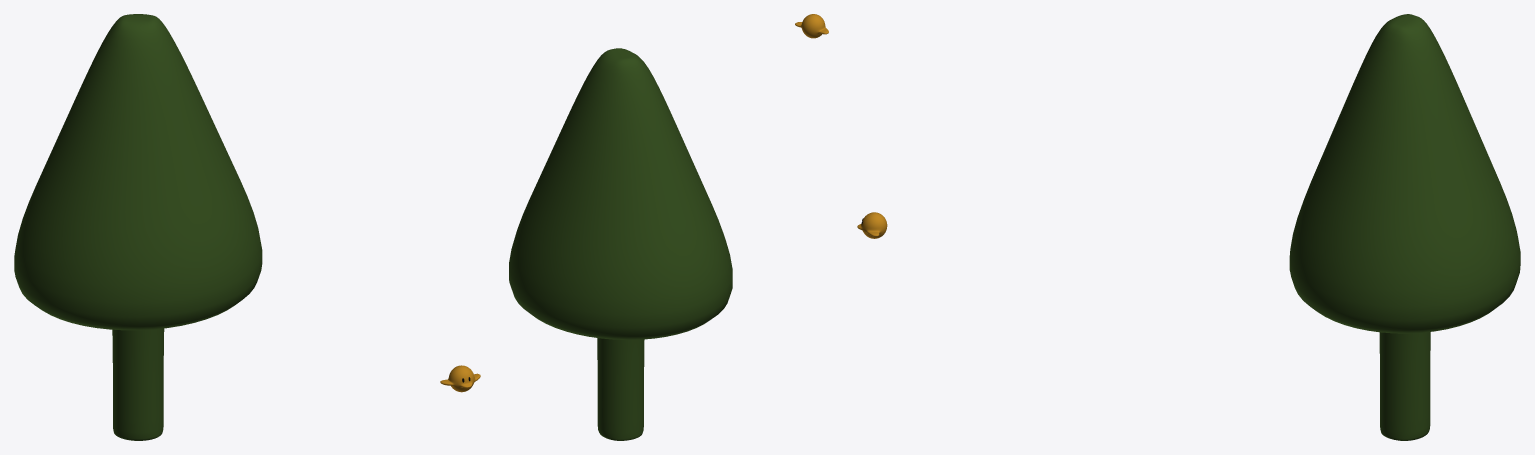
The model's file is pollito.gltf.
3 renders of one model, left to right at view 1: azimuth 30°, elevation 25°; view 2: azimuth 150°, elevation 25°; view 3: azimuth 270°, elevation 25°, orthographic. The views are drawn at different scales.
Visible parts, largest first — view 1: polySurface35 polySurface31, polySurface1 polySurface20; view 2: polySurface35 polySurface31, polySurface1 polySurface20; view 3: polySurface35 polySurface31.
Boxes of the visible parts, x1=… form: polySurface35 polySurface31: x1=14, y1=14, x2=262, y2=440; polySurface1 polySurface20: x1=440, y1=365, x2=480, y2=392; polySurface35 polySurface31: x1=509, y1=48, x2=732, y2=440; polySurface1 polySurface20: x1=795, y1=14, x2=828, y2=38; polySurface35 polySurface31: x1=1289, y1=14, x2=1520, y2=440.
Size of the model in its own units: 7.63 by 13.87 by 20.3.
